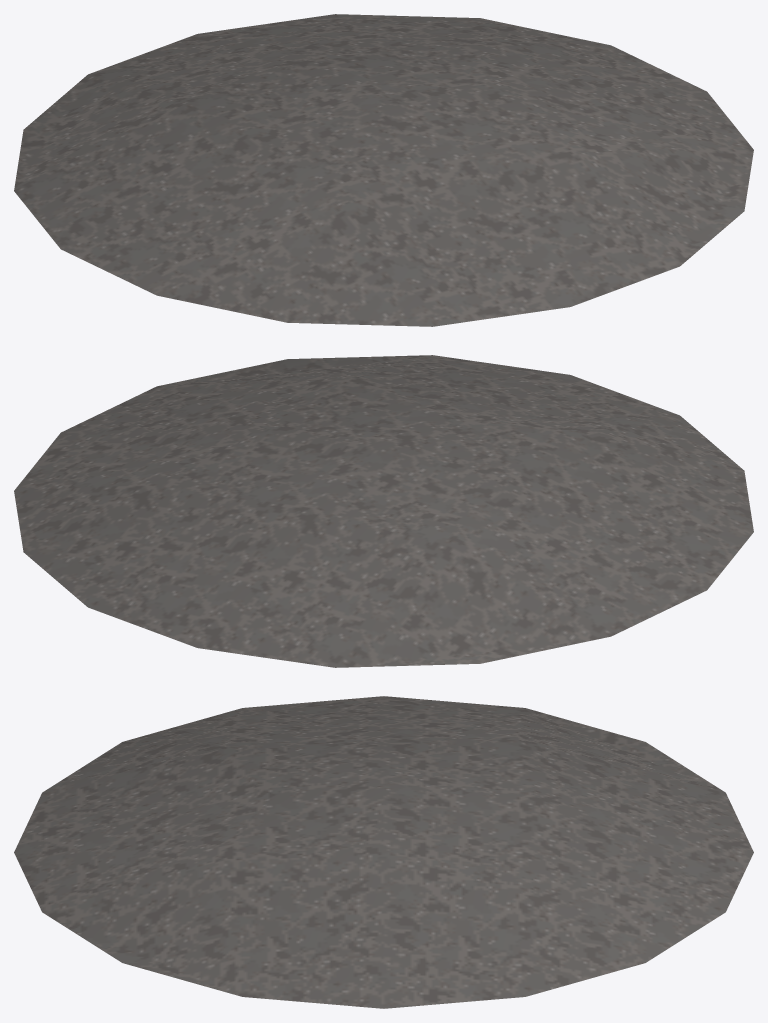
The model's file is CaveRivet2.fbx.
3 views of the same model, one above another, from view 1: azimuth 30°, elevation 25°; view 2: azimuth 150°, elevation 25°; view 3: azimuth 270°, elevation 25° (orthographic).
Parts seen in each view (by area): view 1: CaveRivet2; view 2: CaveRivet2; view 3: CaveRivet2.
Part boxes in pixels (left/top/right/bottom): CaveRivet2: left=14, top=14, right=753, bottom=326; CaveRivet2: left=14, top=355, right=753, bottom=667; CaveRivet2: left=14, top=696, right=753, bottom=1008.
Bounding box in the file's own units: 659 × 61.5 × 659.
1 material, 1 textured.
